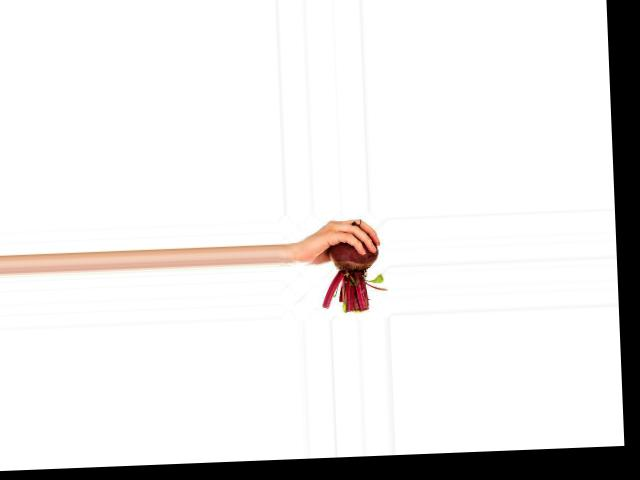beet: (319, 219, 387, 313)
